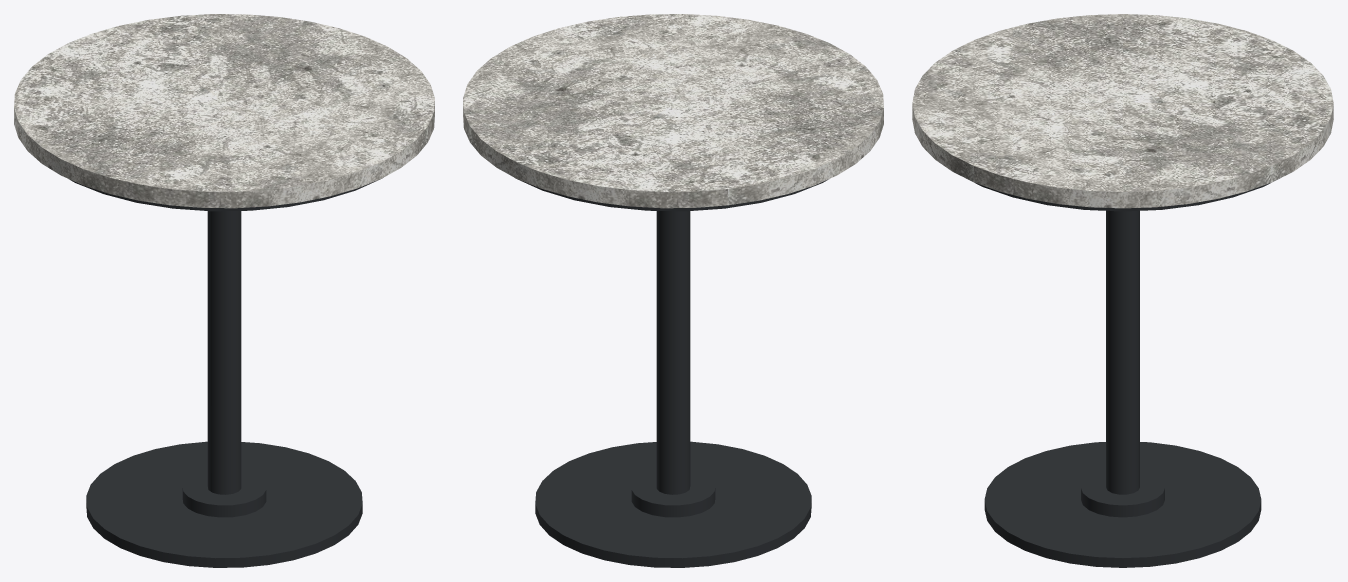
Rendered from bistro.glb.
The picture shows the model from 3 angles, left to right: view 1: azimuth 30°, elevation 25°; view 2: azimuth 150°, elevation 25°; view 3: azimuth 270°, elevation 25°; orthographic projection.
Parts seen in each view (by area): view 1: stone, frame.008; view 2: stone, frame.008; view 3: stone, frame.008.
Part boxes in pixels (<box>): stone: <box>14,14,434,208</box>; frame.008: <box>69,177,383,567</box>; stone: <box>463,14,883,208</box>; frame.008: <box>514,177,828,567</box>; stone: <box>912,14,1333,208</box>; frame.008: <box>966,178,1279,567</box>.
Bounding box in the file's own units: 0.7 × 0.745 × 0.7.
Materials: 2 (1 with a texture image).
